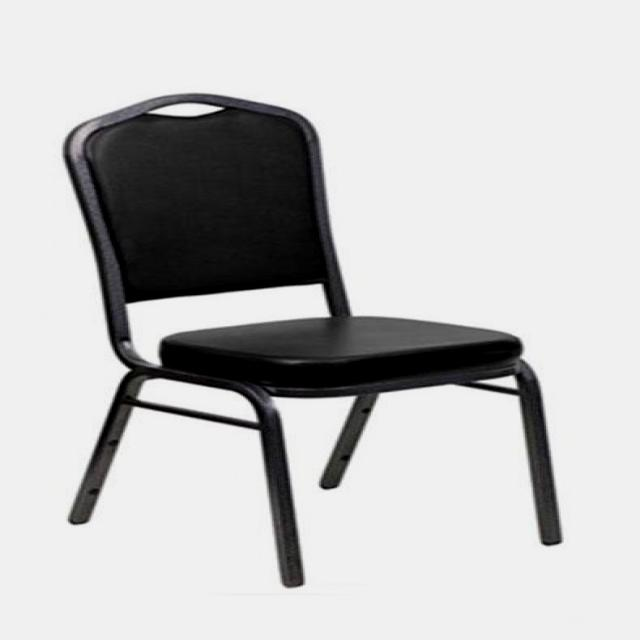Chair: (63, 89, 572, 592)
